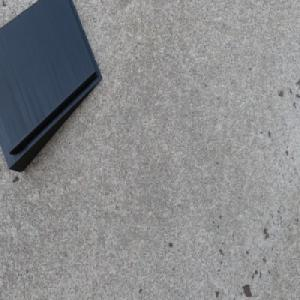PlasticPart: (0, 0, 102, 174)
